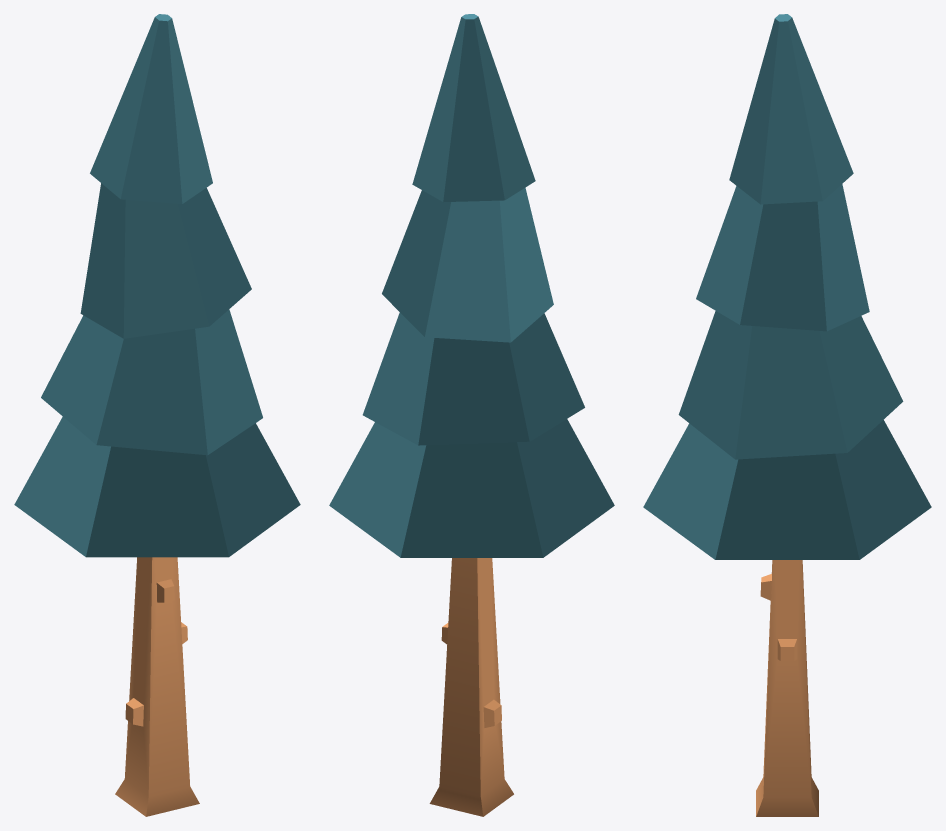
Rendered from tree_pine_short_detailed.obj.
The picture shows the model from 3 angles, left to right: view 1: azimuth 30°, elevation 25°; view 2: azimuth 150°, elevation 25°; view 3: azimuth 270°, elevation 25°; orthographic projection.
Parts seen in each view (by area): view 1: tree_pine_short_detailed; view 2: tree_pine_short_detailed; view 3: tree_pine_short_detailed.
Boxes of the visible parts, x1,y1,x2,y2 form: tree_pine_short_detailed: (14,14,300,816); tree_pine_short_detailed: (329,14,614,816); tree_pine_short_detailed: (643,14,931,816).
Size of the model in its own units: 4.8 by 16.72 by 5.55.
